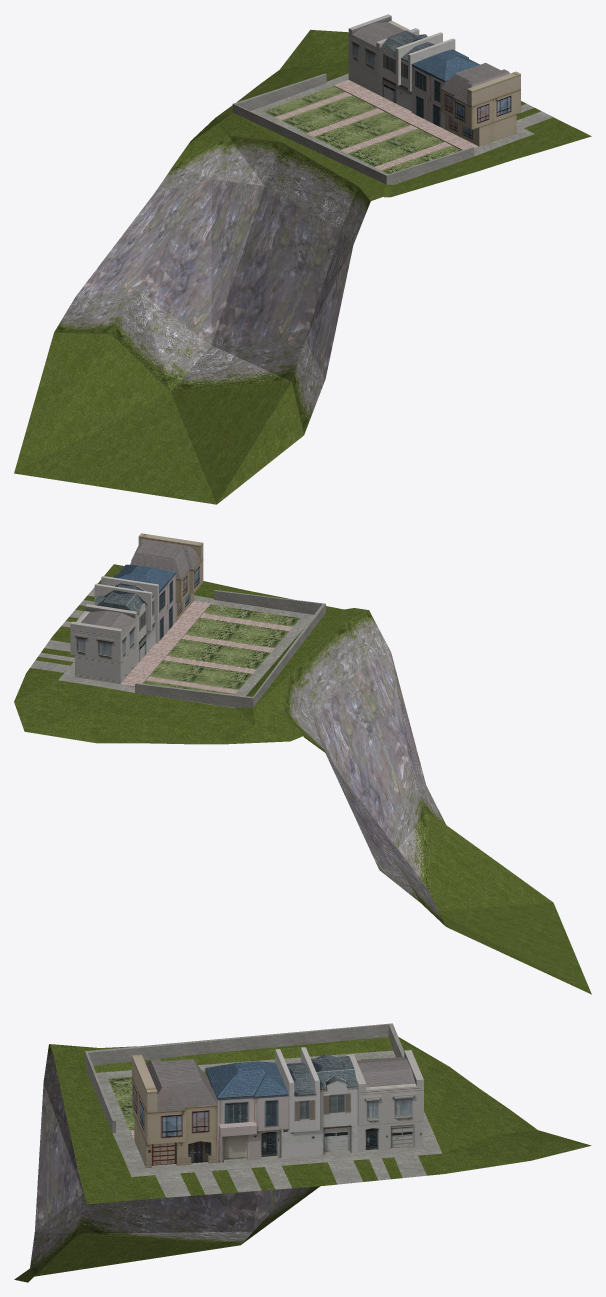
File: sfw_boxwest05.obj
3 views of the same model, one above another, from view 1: azimuth 30°, elevation 25°; view 2: azimuth 150°, elevation 25°; view 3: azimuth 270°, elevation 25° (orthographic). The views are drawn at different scales.
Visible parts, largest first — view 1: sfw_boxwest05; view 2: sfw_boxwest05; view 3: sfw_boxwest05.
Part boxes in pixels (x1,y1,x2,y2): sfw_boxwest05: (14,14,591,504); sfw_boxwest05: (14,533,591,994); sfw_boxwest05: (14,1023,591,1282).
Size of the model in its own units: 83.59 by 47.36 by 58.49.
15 materials, 14 textured.
